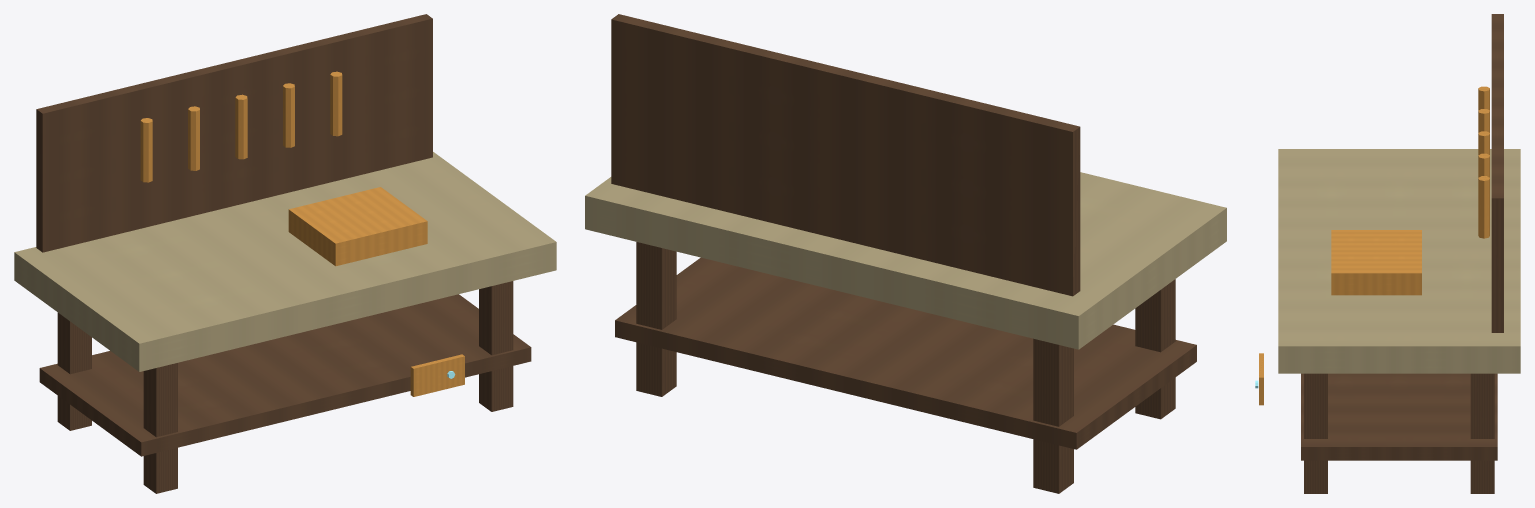
File: atlas100-s018-a06.lod1.glb
3 views of the same model, side by side, from view 1: azimuth 30°, elevation 25°; view 2: azimuth 150°, elevation 25°; view 3: azimuth 270°, elevation 25° (orthographic). The views are drawn at different scales.
Visible parts, largest first — view 1: atlas100-s018-a06:part-004, atlas100-s018-a06:part-006, atlas100-s018-a06:part-005, atlas100-s018-a06:part-012, atlas100-s018-a06:part-003, atlas100-s018-a06:part-001, atlas100-s018-a06:part-000, atlas100-s018-a06:part-013, atlas100-s018-a06:part-007, atlas100-s018-a06:part-009, atlas100-s018-a06:part-011, atlas100-s018-a06:part-010 (+1 smaller); view 2: atlas100-s018-a06:part-006, atlas100-s018-a06:part-005, atlas100-s018-a06:part-004, atlas100-s018-a06:part-000, atlas100-s018-a06:part-002, atlas100-s018-a06:part-001; view 3: atlas100-s018-a06:part-004, atlas100-s018-a06:part-005, atlas100-s018-a06:part-012, atlas100-s018-a06:part-006, atlas100-s018-a06:part-002, atlas100-s018-a06:part-003, atlas100-s018-a06:part-011.
Boxes of the visible parts, left/top/right/bottom form: atlas100-s018-a06:part-004: left=14, top=152, right=556, bottom=371; atlas100-s018-a06:part-006: left=36, top=14, right=432, bottom=252; atlas100-s018-a06:part-005: left=39, top=294, right=531, bottom=456; atlas100-s018-a06:part-012: left=288, top=187, right=427, bottom=266; atlas100-s018-a06:part-003: left=479, top=281, right=513, bottom=411; atlas100-s018-a06:part-001: left=143, top=363, right=177, bottom=493; atlas100-s018-a06:part-000: left=57, top=312, right=91, bottom=430; atlas100-s018-a06:part-013: left=410, top=354, right=464, bottom=396; atlas100-s018-a06:part-007: left=140, top=118, right=152, bottom=182; atlas100-s018-a06:part-009: left=235, top=94, right=247, bottom=159; atlas100-s018-a06:part-011: left=330, top=71, right=342, bottom=136; atlas100-s018-a06:part-010: left=283, top=83, right=294, bottom=147; atlas100-s018-a06:part-006: left=611, top=14, right=1080, bottom=296; atlas100-s018-a06:part-005: left=615, top=257, right=1196, bottom=449; atlas100-s018-a06:part-004: left=585, top=172, right=1226, bottom=349; atlas100-s018-a06:part-000: left=1033, top=338, right=1073, bottom=493; atlas100-s018-a06:part-002: left=636, top=242, right=676, bottom=396; atlas100-s018-a06:part-001: left=1135, top=279, right=1175, bottom=419; atlas100-s018-a06:part-004: left=1278, top=149, right=1520, bottom=373; atlas100-s018-a06:part-005: left=1301, top=373, right=1497, bottom=460; atlas100-s018-a06:part-012: left=1331, top=230, right=1421, bottom=295; atlas100-s018-a06:part-006: left=1491, top=14, right=1503, bottom=332; atlas100-s018-a06:part-002: left=1470, top=373, right=1494, bottom=493; atlas100-s018-a06:part-003: left=1304, top=373, right=1327, bottom=493; atlas100-s018-a06:part-011: left=1478, top=176, right=1489, bottom=238.
Bounding box in the file's own units: 3.08 × 2.21 × 1.75.
4 materials, 4 textured.
